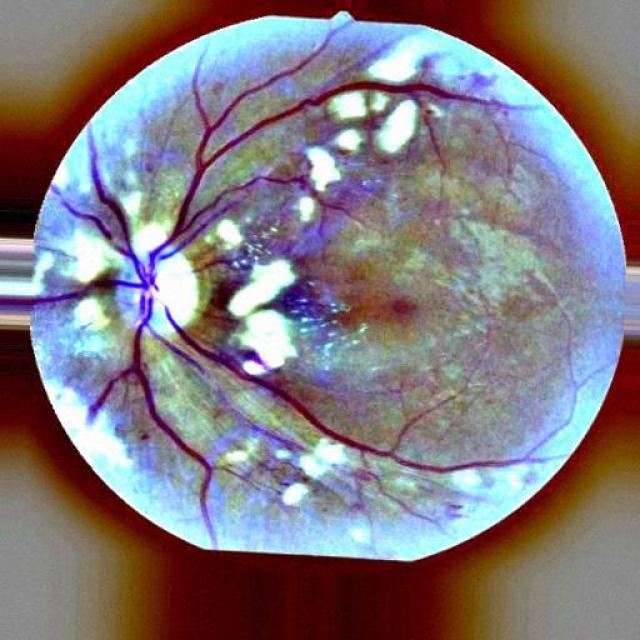Nerves: (38, 30, 540, 539)
Optic Disk: (112, 222, 198, 338)
